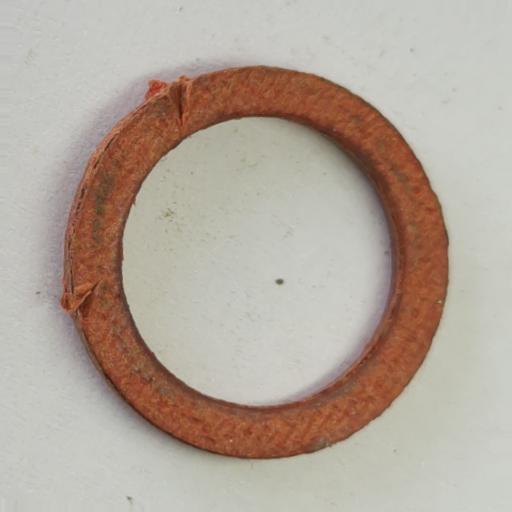defect: (147, 79, 188, 132), (60, 278, 98, 316)
